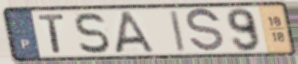9: (223, 6, 262, 54)
A: (114, 10, 156, 55)
I: (168, 9, 187, 54)
S: (185, 7, 226, 55), (74, 11, 112, 55)
T: (36, 13, 68, 55)
